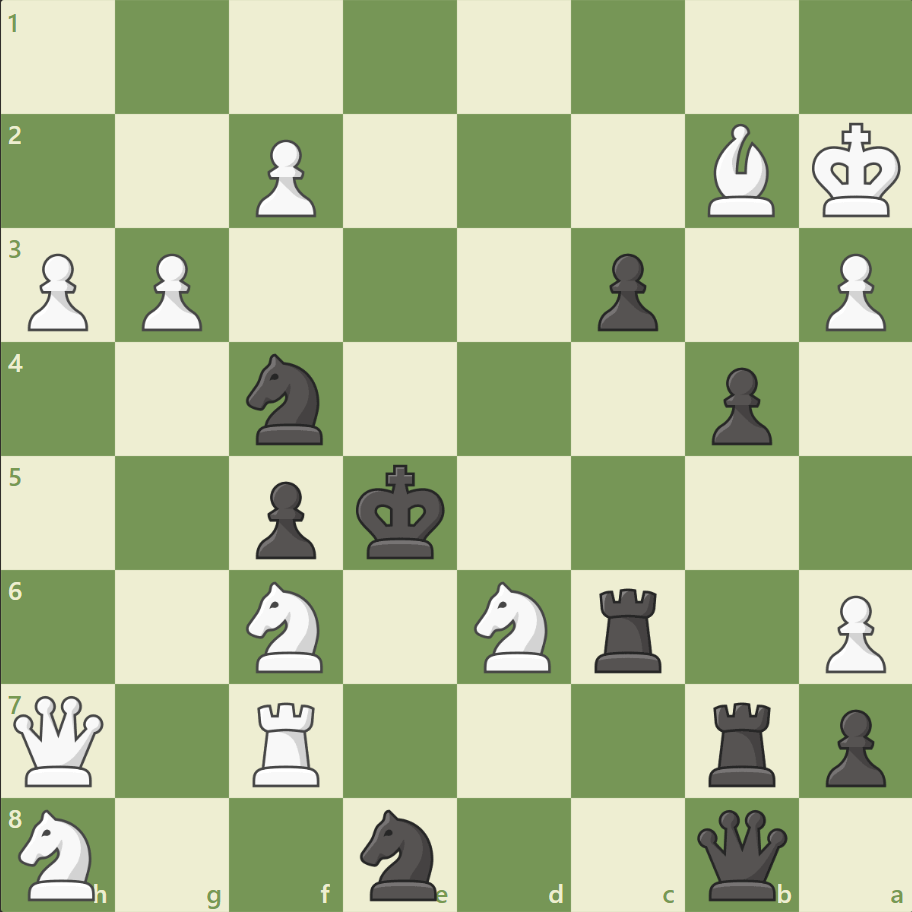B: (698, 120, 782, 222)
K: (806, 117, 906, 225)
N: (11, 802, 108, 904), (465, 575, 562, 677), (238, 575, 335, 677)
P: (133, 246, 208, 337), (20, 246, 95, 337), (247, 132, 322, 223), (815, 586, 889, 677), (815, 246, 889, 337)
Q: (10, 690, 109, 789)
R: (246, 693, 329, 790)
k: (351, 458, 451, 566)
n: (351, 802, 449, 904), (238, 348, 335, 450)
p: (247, 473, 322, 564), (701, 359, 776, 450), (815, 700, 889, 791), (588, 246, 662, 337)
q: (691, 804, 790, 903)
r: (700, 693, 783, 790), (587, 579, 670, 676)
